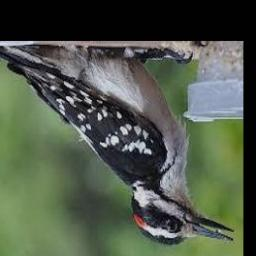Woodpecker: (0, 46, 235, 246)
